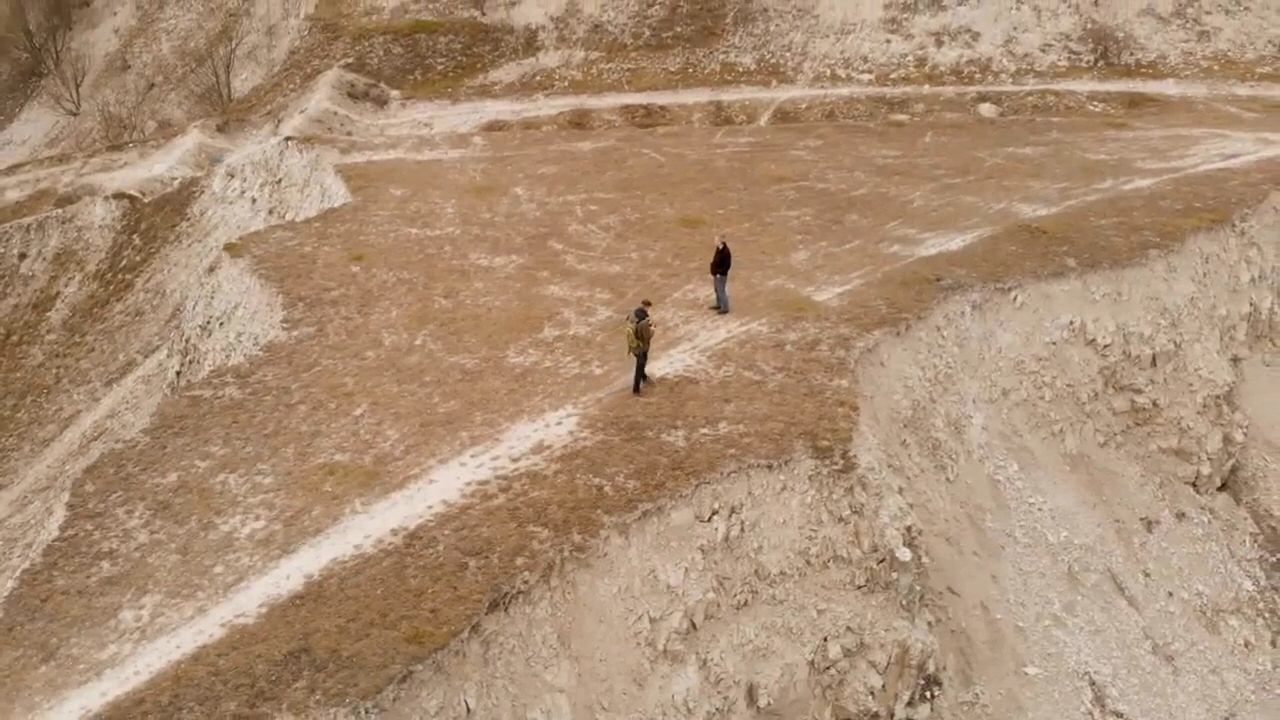insan: (621, 298, 663, 395), (706, 231, 735, 317)
